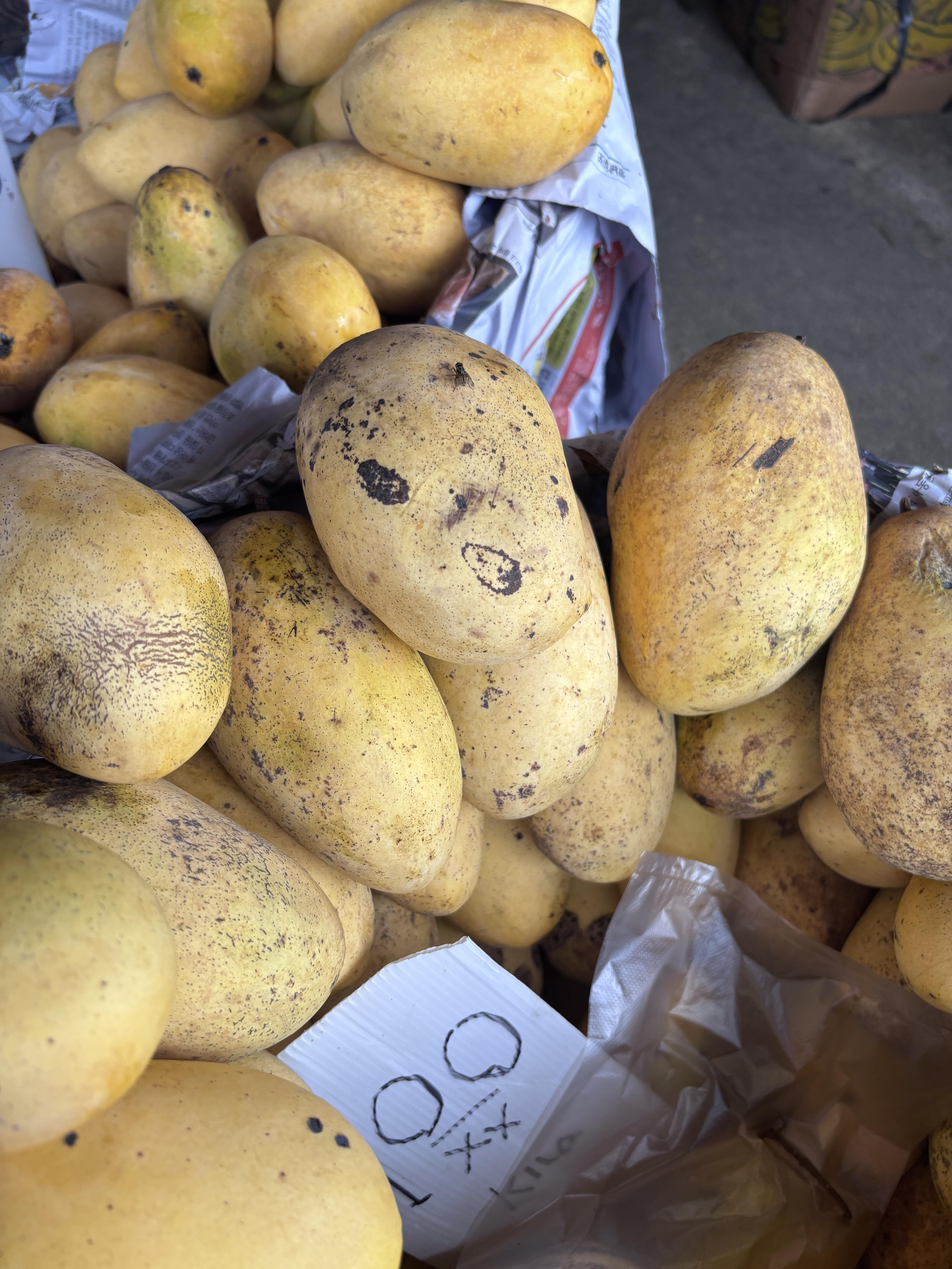mango: (297, 325, 590, 664)
occluded: (0, 762, 344, 1060), (209, 511, 461, 893), (424, 511, 618, 819), (821, 506, 952, 880)
